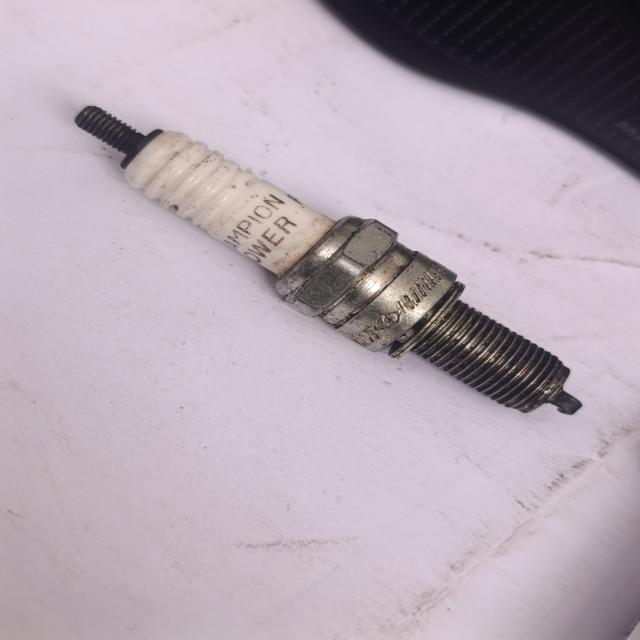bujia: (75, 106, 581, 415)
